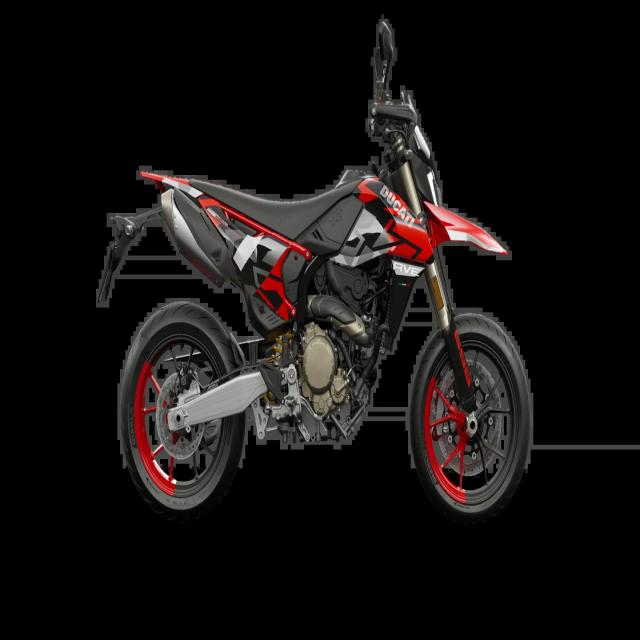Bike: (95, 15, 534, 532)
